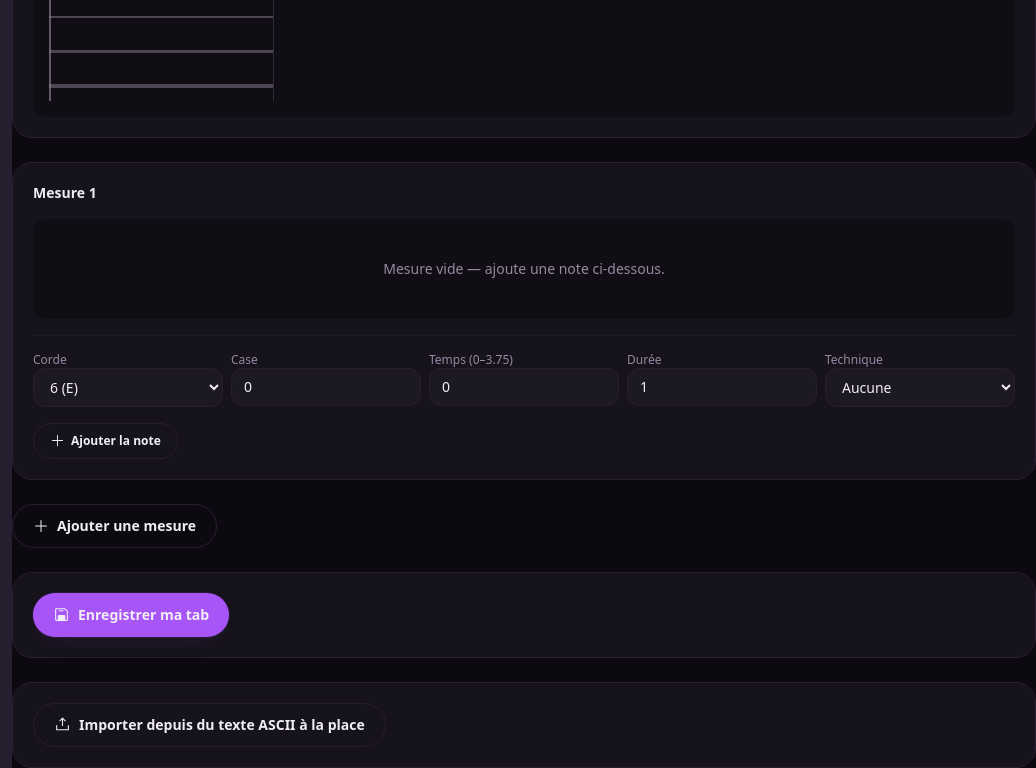
TabCreatorPage › adding a note shows it in the measure and the live preview
(page scrolled)
Click the button "Ajouter la note" at (105, 440), box [33,422,178,458]
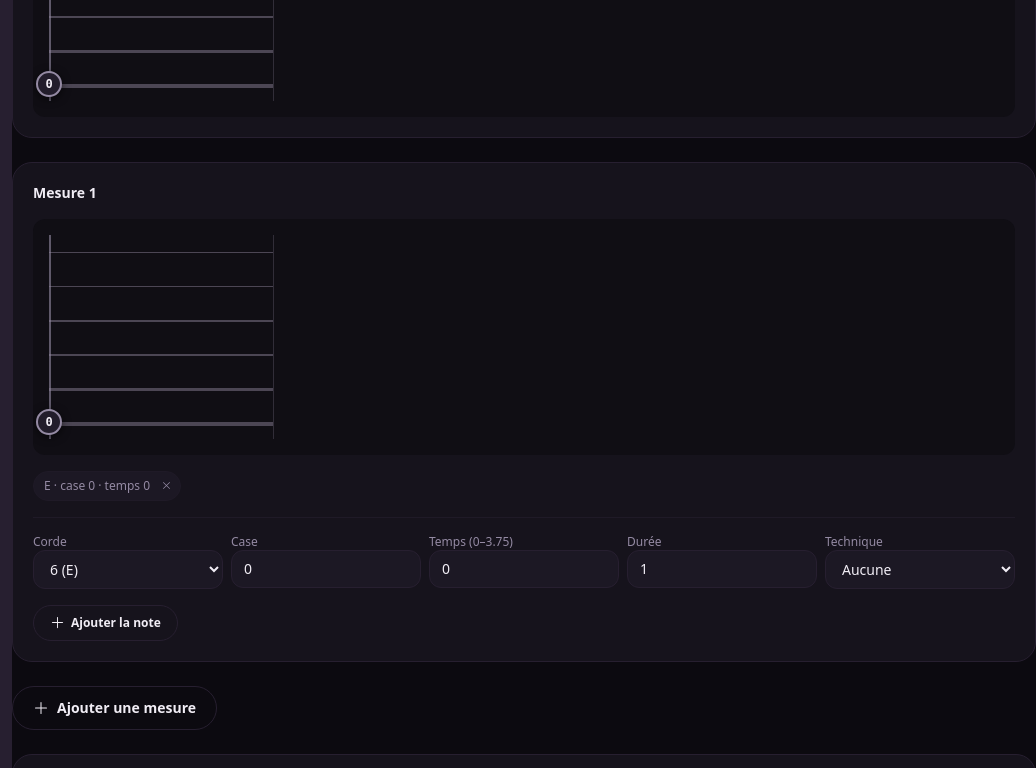
Now the text "E · case 0 · temps 0" is shown, box [33,470,181,500]
Now the text with test id "note-6-0" is shown, box [36,70,62,96]
